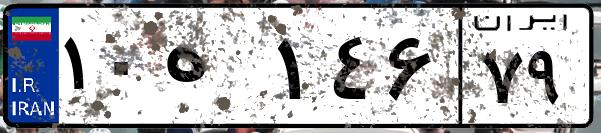0: (110, 28, 158, 98)
1: (270, 28, 330, 110), (57, 26, 110, 100)
4: (330, 28, 385, 110)
6: (385, 28, 445, 110)
7: (475, 38, 525, 113)
9: (525, 38, 570, 115)
ه: (158, 20, 270, 120)
